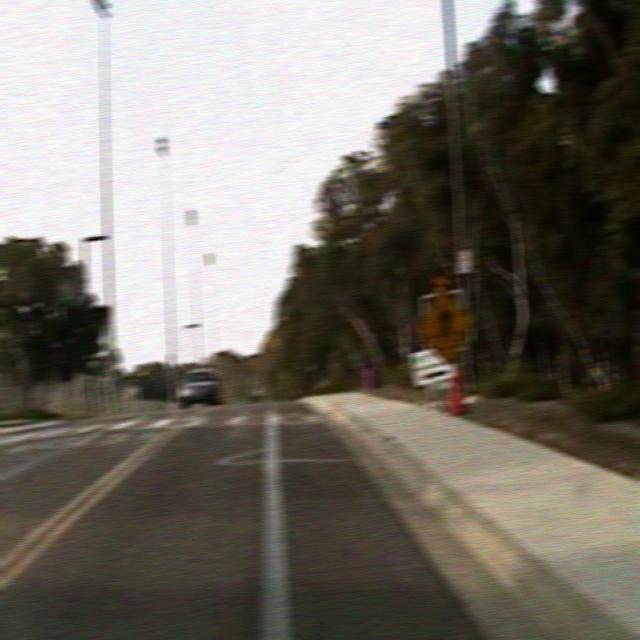pedestrianCrossing: (415, 286, 473, 366)
